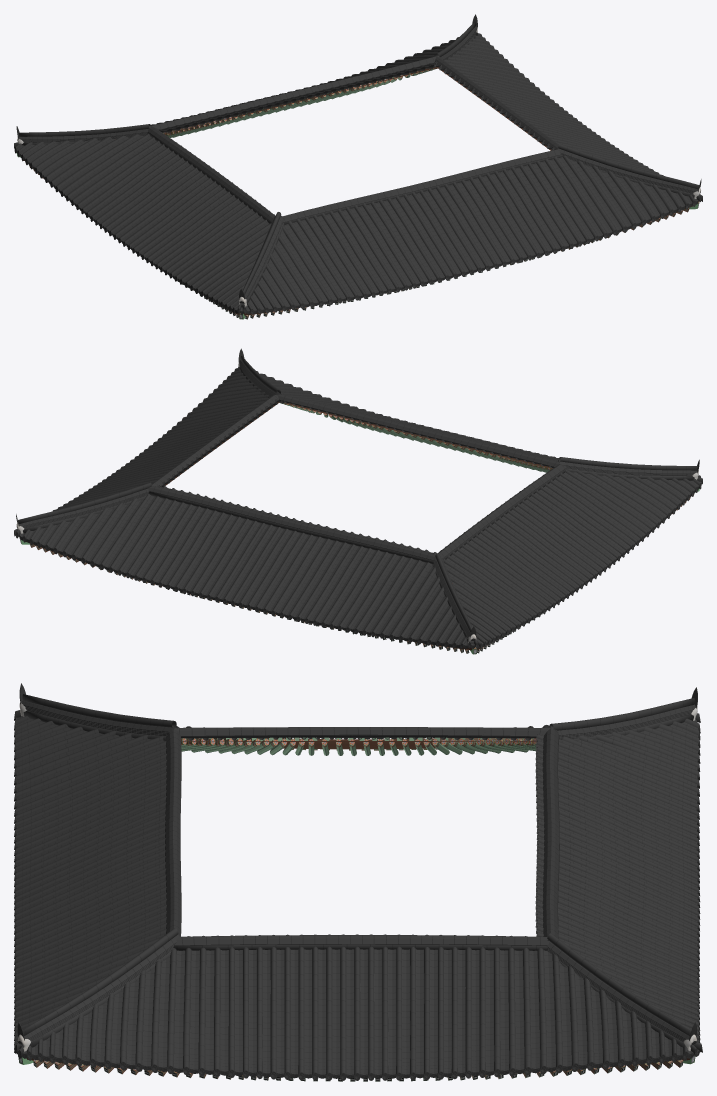
The model's file is SM_Geumsan_Mi_Roof_C.fbx.
3 renders of one model, top to bottom at view 1: azimuth 30°, elevation 25°; view 2: azimuth 150°, elevation 25°; view 3: azimuth 270°, elevation 25°, orthographic. The views are drawn at different scales.
Parts seen in each view (by area): view 1: SM_Geumsan_Mi_Roof_C; view 2: SM_Geumsan_Mi_Roof_C; view 3: SM_Geumsan_Mi_Roof_C.
Part boxes in pixels (box(x1,y1,x2,y2)): SM_Geumsan_Mi_Roof_C: box(14, 14, 702, 319); SM_Geumsan_Mi_Roof_C: box(14, 348, 702, 654); SM_Geumsan_Mi_Roof_C: box(14, 683, 702, 1081).
Bounding box in the file's own units: 2432 × 311 × 2072.
